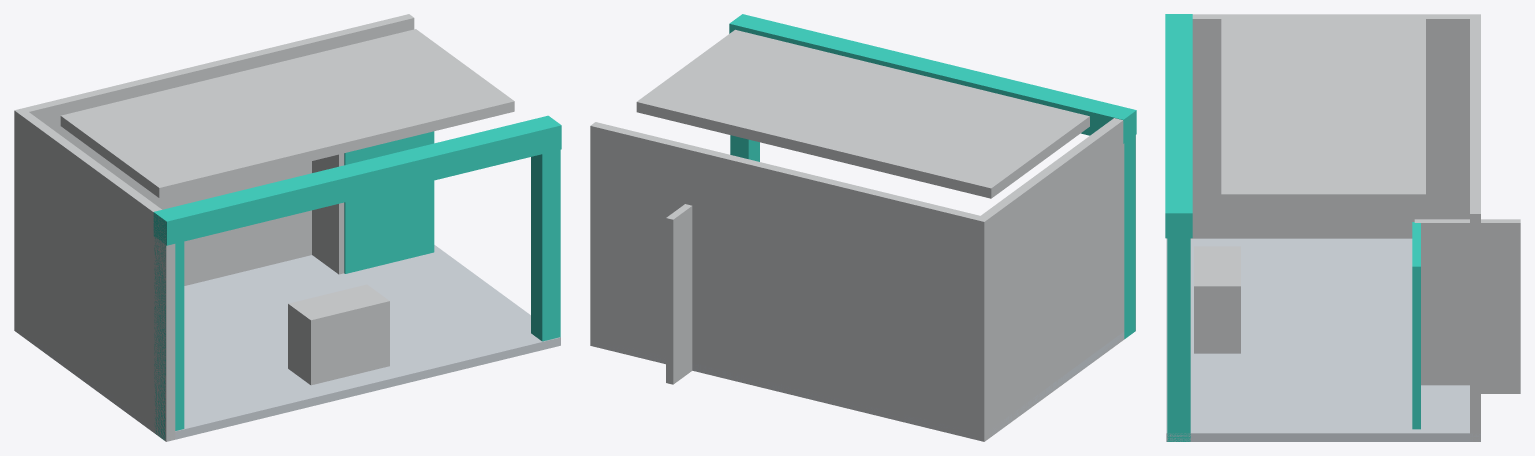
The picture shows the model from 3 angles, left to right: view 1: azimuth 30°, elevation 25°; view 2: azimuth 150°, elevation 25°; view 3: azimuth 270°, elevation 25°; orthographic projection. The views are drawn at different scales.
Parts seen in each view (by area): view 1: Exhibition Booth Concept; view 2: Exhibition Booth Concept; view 3: Exhibition Booth Concept.
Boxes of the visible parts, x1=… form: Exhibition Booth Concept: x1=14, y1=14, x2=561, y2=441; Exhibition Booth Concept: x1=590, y1=14, x2=1136, y2=441; Exhibition Booth Concept: x1=1165, y1=14, x2=1520, y2=441.
Bounding box in the file's own units: 6 × 3.34 × 4.52.
